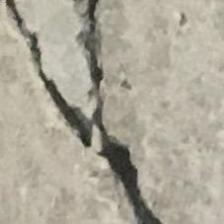Crack: (0, 0, 194, 224)
